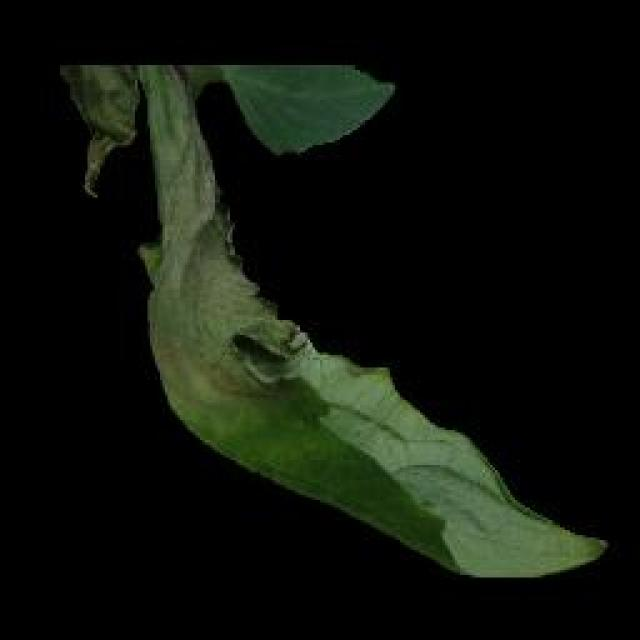Tomato Late Blight: (95, 128, 418, 508)
